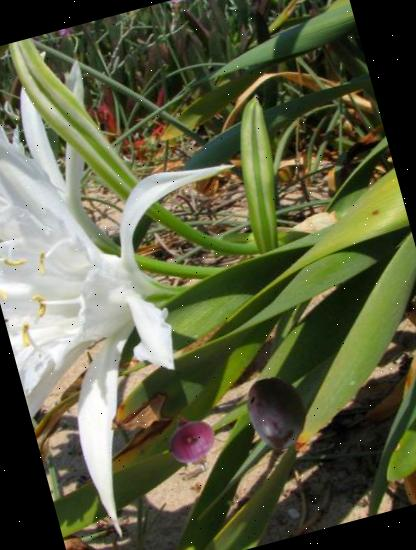Onion: (151, 404, 237, 489)
Plum: (233, 368, 324, 459)
